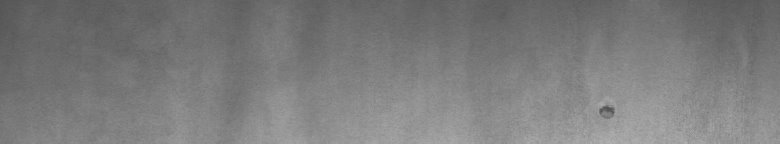fi: (597, 96, 617, 123)
